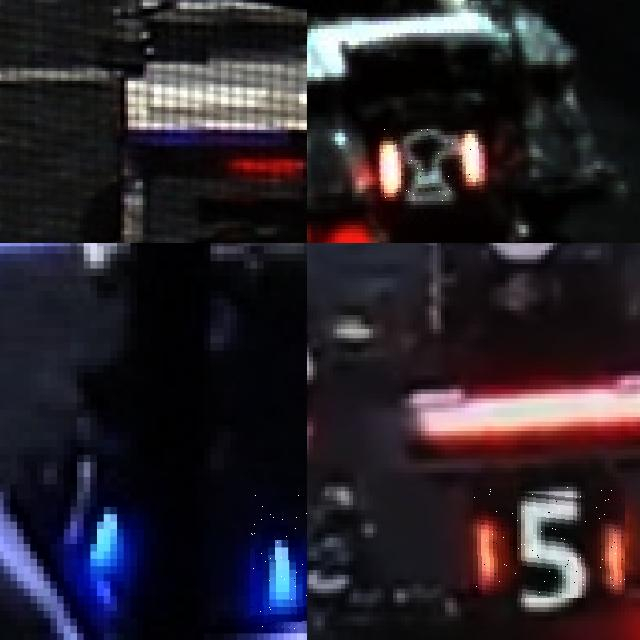B1: (24, 447, 130, 581), (250, 495, 307, 629)
R5: (473, 487, 625, 598)
Rs: (379, 129, 482, 201)
